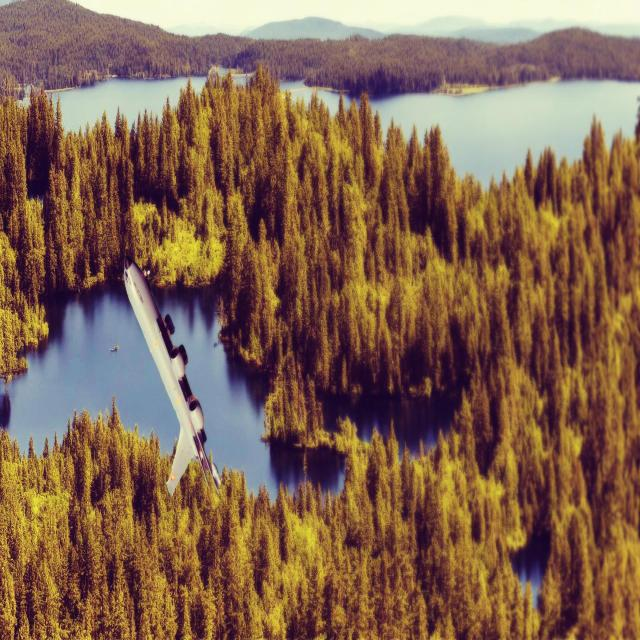airplane: (122, 256, 222, 498)
